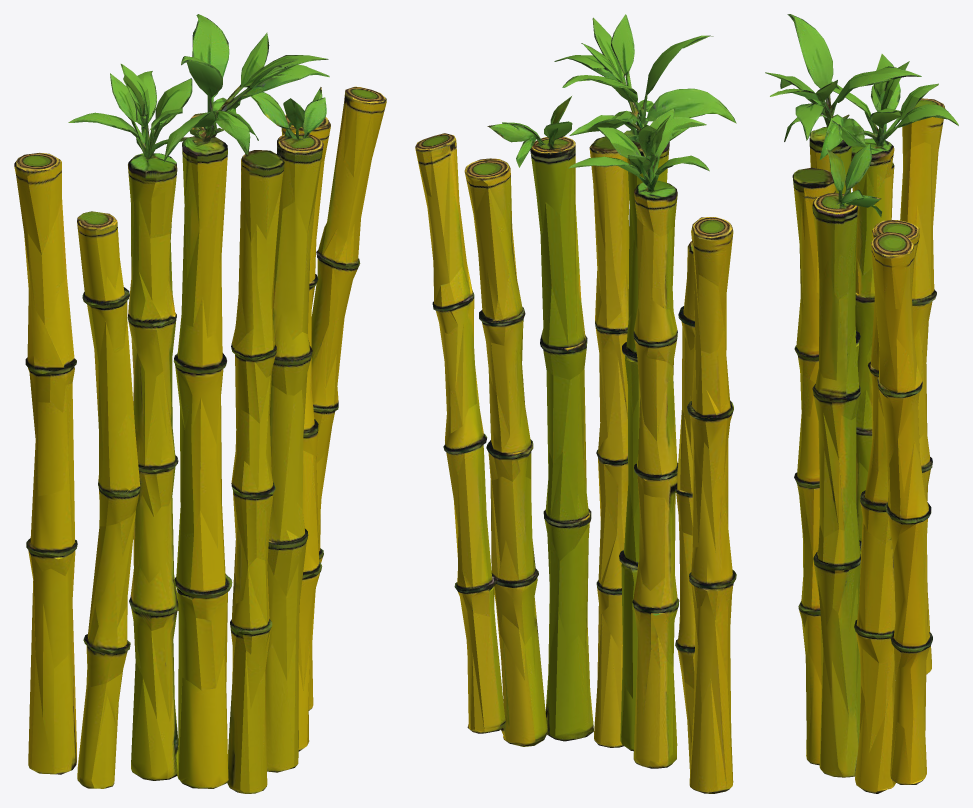
File: bamboo-clump.glb
3 renders of one model, left to right at view 1: azimuth 30°, elevation 25°; view 2: azimuth 150°, elevation 25°; view 3: azimuth 270°, elevation 25°, orthographic. The views are drawn at different scales.
Parts seen in each view (by area): view 1: mesh_node; view 2: mesh_node; view 3: mesh_node.
Part boxes in pixels (bbox=[...]): mesh_node: bbox=[14, 14, 386, 793]; mesh_node: bbox=[415, 14, 736, 793]; mesh_node: bbox=[765, 14, 958, 793].
Size of the model in its own units: 0.9161 by 1.9 by 0.4725.
Materials: 1 (1 with a texture image).
